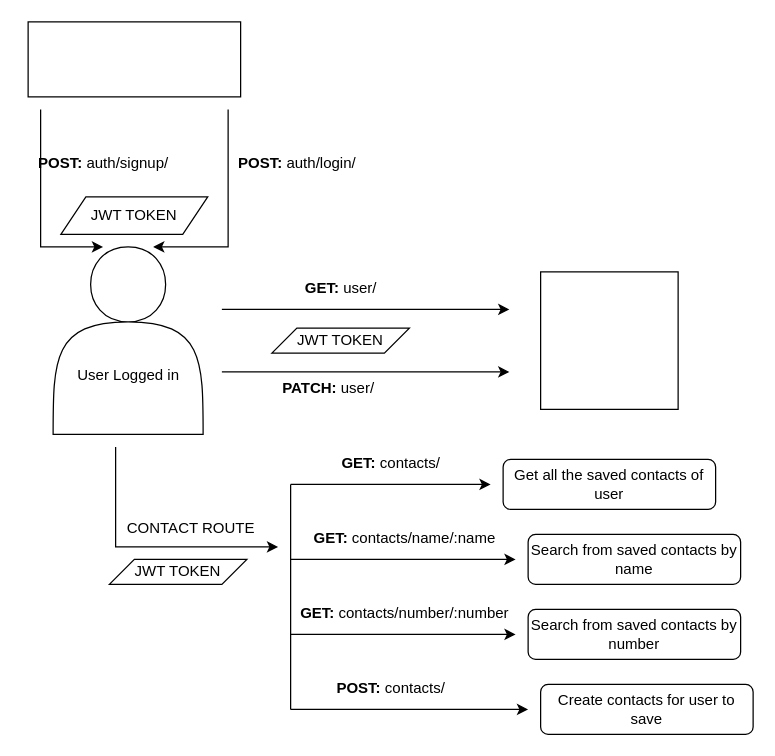
This 775x756 diagram has some shape labels left out. Here are the shapes that lost their labels. From the top down, the box of each, then its label:
(27, 21, 241, 97): User
(539, 271, 678, 409): Profile Display
